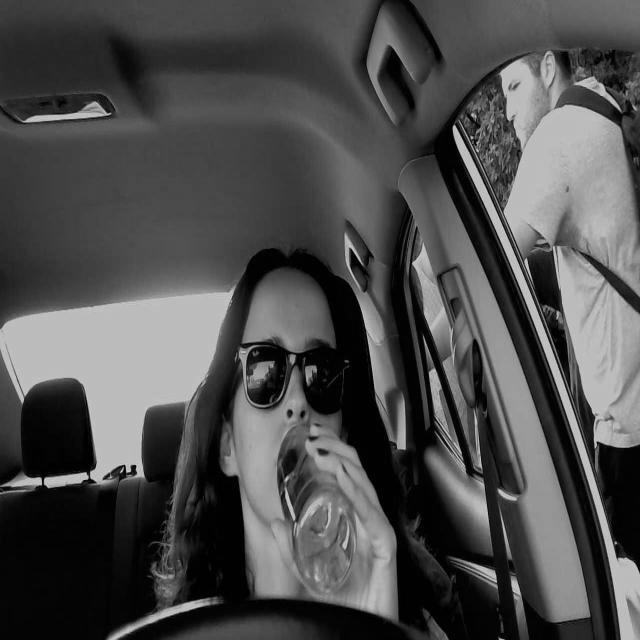Drinking: (278, 424, 373, 596)
